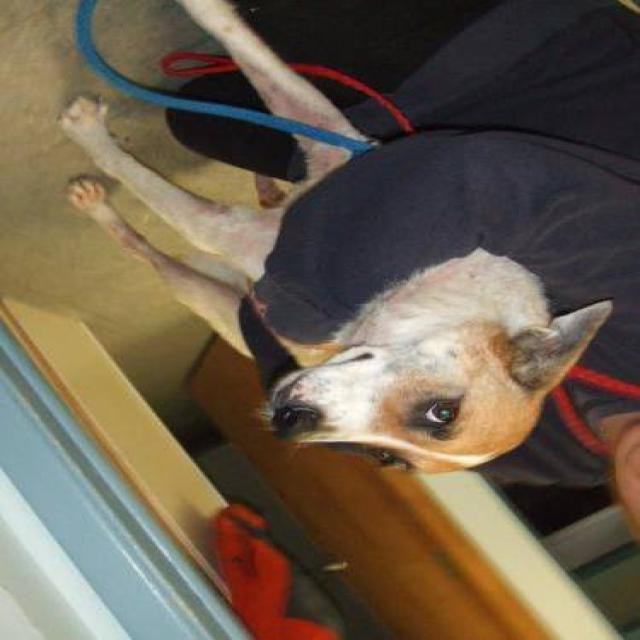dog: (56, 91, 614, 475)
